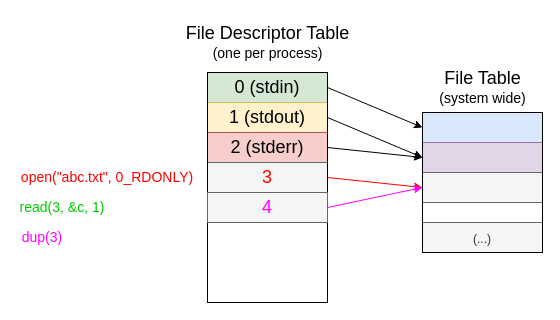
Image size: 560x320. Some labels were removed from this diagram. Here are the shapes that lost their labels. From the top down, the centre of each, then its label:
At (482,127): "read-only, offset:0".
At (482,157): "write-only, offset:0".
At (482,187): "read-only, offset: 0 1".
